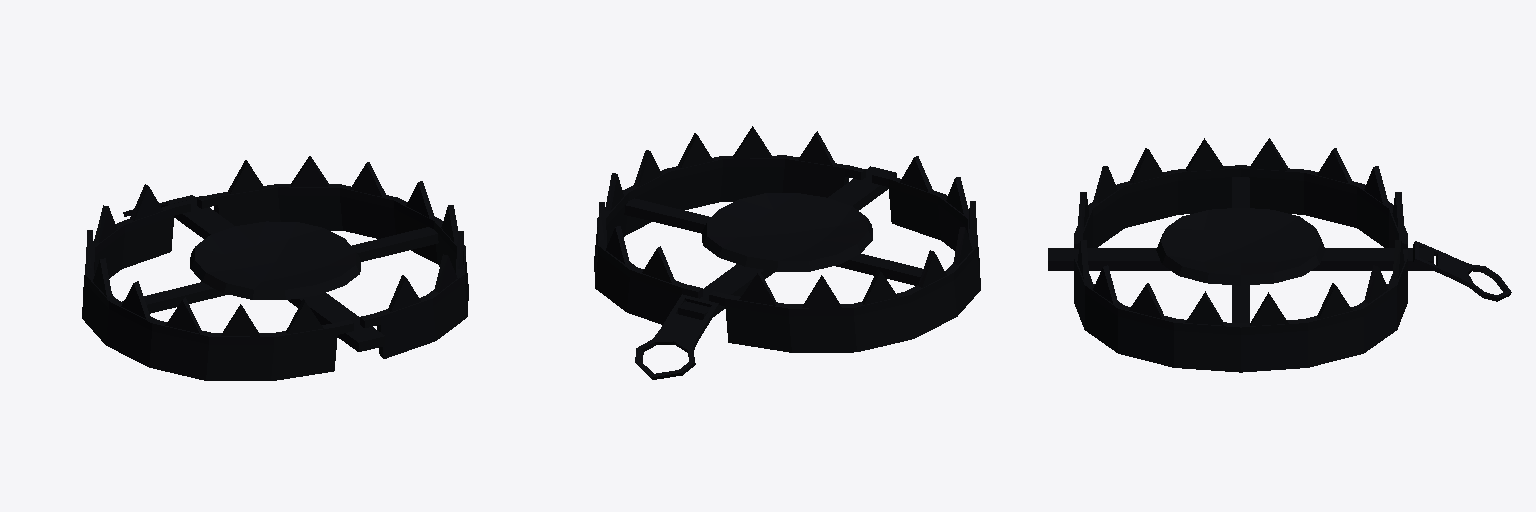
Rendered from BearTrap_Open.obj.
3 renders of one model, left to right at view 1: azimuth 30°, elevation 25°; view 2: azimuth 150°, elevation 25°; view 3: azimuth 270°, elevation 25°, orthographic.
Parts seen in each view (by area): view 1: BearTrap_Open.001; view 2: BearTrap_Open.001; view 3: BearTrap_Open.001.
Boxes of the visible parts, x1,y1,x2,y2 form: BearTrap_Open.001: [82, 156, 468, 380]; BearTrap_Open.001: [594, 126, 980, 379]; BearTrap_Open.001: [1048, 138, 1511, 372].
Size of the model in its own units: 1.2 by 0.27 by 1.42.